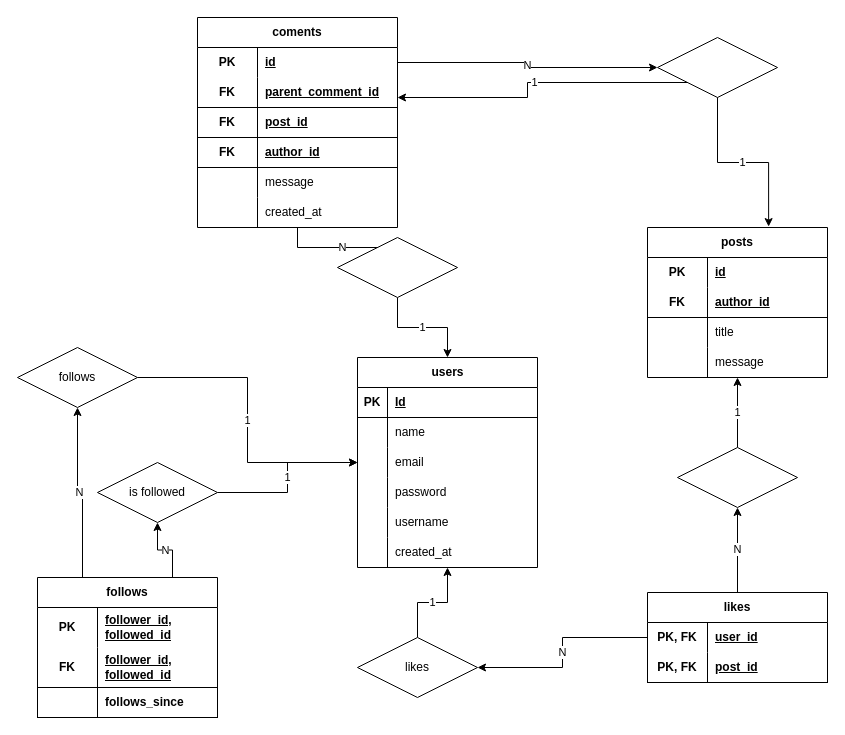
The diagram is 845 pixels wide and 735 high, and some of its shapes have lost their labels. The shapes that lost their labels are listed below. From the top down, each one's centre as x and y in pixels, then its label:
[717,67]: is commented in
[397,267]: comments
[737,477]: is liked
